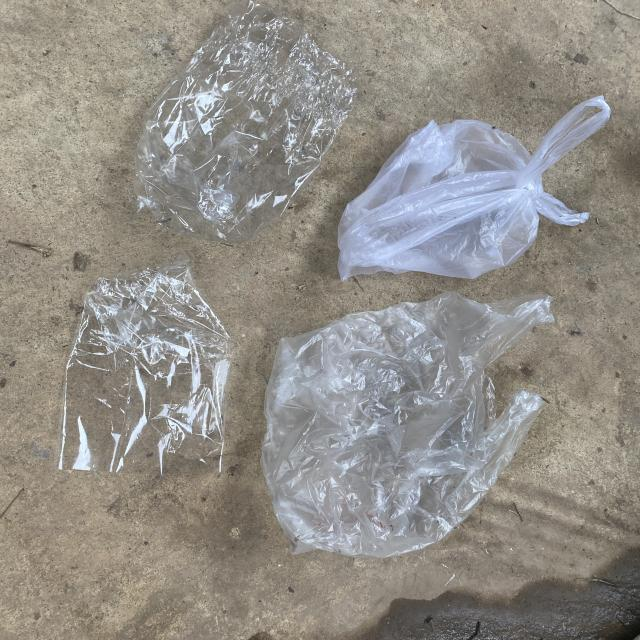Single-layer Plastic: (261, 292, 552, 558), (135, 1, 356, 242), (338, 96, 610, 280), (59, 255, 231, 474)
